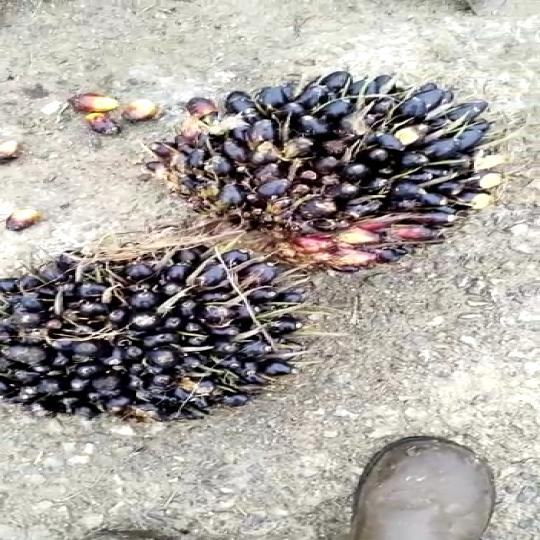mentah: (151, 51, 480, 278), (0, 241, 350, 429)
